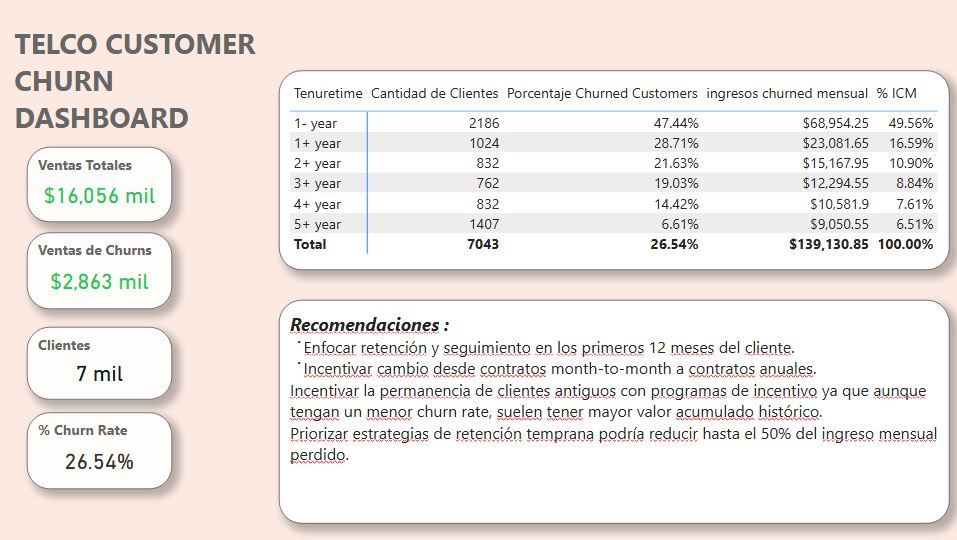

Layout of this report page (visuals, bound fields, positions):
{"tool":"powerbi","page":{"name":"Recomendaciones","canvas":[1280,720],"ordinal":1},"visuals":[{"type":"textbox","box":[13.3,25,371.7,170],"z":0},{"type":"pivotTable","fields":{"Rows":["Telco-Customer-Churn.Tenuretime"],"Values":["Telco-Customer-Churn.Cantidad de Clientes","Telco-Customer-Churn.Porcentaje Churned Customers","Telco-Customer-Churn.ingresos churned mensual","Telco-Customer-Churn.% ICM"]},"box":[372,94,894,266],"z":1},{"type":"textbox","box":[372,400,894,298],"z":2},{"type":"card","title":"Ventas Totales","fields":{"Values":["Telco-Customer-Churn.TotalSales"]},"box":[36.7,195,193.3,100],"z":3},{"type":"card","title":"Ventas de Churns","fields":{"Values":["Telco-Customer-Churn.ChurnedIngresos"]},"box":[36.7,310,193.3,101.7],"z":4},{"type":"card","title":"Clientes","fields":{"Values":["Telco-Customer-Churn.Cantidad de Clientes"]},"box":[36.7,435,193.3,96.7],"z":5},{"type":"card","title":"% Churn Rate","fields":{"Values":["Telco-Customer-Churn.% Churn Rate"]},"box":[36.7,550,193.3,101.7],"z":6}]}

Visuals, with their boxes in screenshot pixels (x1, y1, x2, y2), scaled from the page's 1280x720 canvas onto the 957x540 screenshot:
textbox: bbox=(10, 19, 288, 146)
pivotTable - Telco-Customer-Churn.Tenuretime x Telco-Customer-Churn.Cantidad de Clientes: bbox=(278, 70, 947, 270)
textbox: bbox=(278, 300, 947, 524)
"Ventas Totales" card: bbox=(27, 146, 172, 221)
"Ventas de Churns" card: bbox=(27, 232, 172, 309)
"Clientes" card: bbox=(27, 326, 172, 399)
"% Churn Rate" card: bbox=(27, 412, 172, 489)
